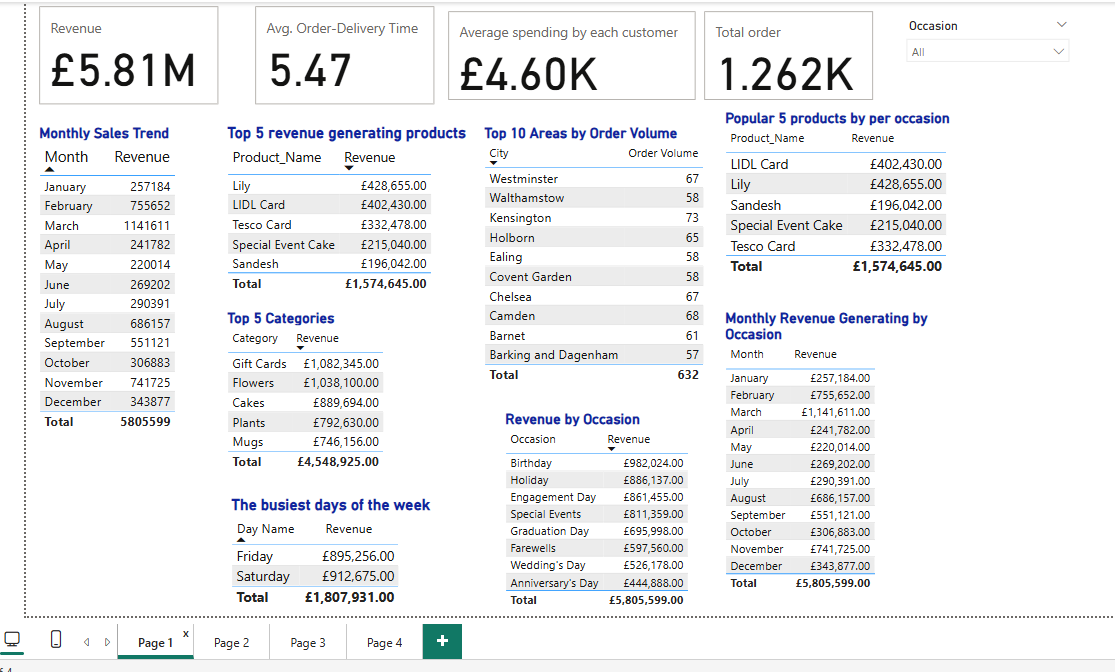

What the dashboard file says about the page in this screenshot:
{"tool":"powerbi","page":{"name":"Page 1","canvas":[1280,720],"ordinal":0},"visuals":[{"type":"cardVisual","fields":{"Data":["Table.Revenue"]},"box":[10.6,0,220.5,125.5],"z":0},{"type":"cardVisual","fields":{"Data":["Table.Diff_order_delivery"]},"box":[263.8,0,220.5,125.5],"z":1000},{"type":"tableEx","title":"Monthly Sales Trend","fields":{"Values":["LocalDateTable_1c952283-f69a-4542-b5b8-ab6ec2ddd77a.Month","Sum(orders.Revenue)"]},"box":[10,142.5,220,391.2],"z":2000},{"type":"tableEx","title":"Top 5 revenue generating products","fields":{"Values":["products.Product_Name","Table.Revenue"]},"box":[231,143.1,300.2,216.9],"z":3000},{"type":"cardVisual","fields":{"Data":["Table.Avg_Revenue"]},"box":[490.2,5.9,300.2,114.9],"z":4000},{"type":"cardVisual","fields":{"Data":["Table.Order_ID"]},"box":[790.4,5.9,208.7,114.9],"z":5000},{"type":"tableEx","title":" Top 5 Categories","fields":{"Values":["products.Category","Table.Revenue"]},"box":[231.3,359.8,258.3,197.9],"z":6000},{"type":"tableEx","title":"Top 10 Areas by Order Volume","fields":{"Values":["customers.City","Table.Order_Id_2"]},"box":[532.5,142.5,268.8,316.2],"z":7000},{"type":"tableEx","title":"Revenue by Occasion","fields":{"Values":["products.Occasion","Table.Revenue"]},"box":[557,478.4,233.4,241.6],"z":8000},{"type":"tableEx","title":"Popular 5 products by per occasion","fields":{"Values":["products.Product_Name","Table.Revenue"]},"box":[814.8,125.9,275,212],"z":9000},{"type":"slicer","fields":{"Values":["products.Occasion"]},"box":[1022.5,15,211.2,86.2],"z":10000},{"type":"tableEx","title":"The busiest days of the week","fields":{"Values":["orders.Delivery Day Name","Table.Revenue"]},"box":[236.2,578.8,275,141.2],"z":11000},{"type":"tableEx","title":"Monthly Revenue Generating by Occasion","fields":{"Values":["LocalDateTable_1c952283-f69a-4542-b5b8-ab6ec2ddd77a.Month","Table.Revenue"]},"box":[815,360,275,338.8],"z":12000}]}

Visuals, with their boxes on the page's 1280x720 design canvas (x1, y1, x2, y2). These are canvas units, not pixel positions in the 1115x672 screenshot, which may show the page scaled, cropped or inside an application window:
cardVisual - Table.Revenue: bbox=[11, 0, 231, 126]
cardVisual - Table.Diff_order_delivery: bbox=[264, 0, 484, 126]
"Monthly Sales Trend" tableEx: bbox=[10, 142, 230, 534]
"Top 5 revenue generating products" tableEx: bbox=[231, 143, 531, 360]
cardVisual - Table.Avg_Revenue: bbox=[490, 6, 790, 121]
cardVisual - Table.Order_ID: bbox=[790, 6, 999, 121]
" Top 5 Categories" tableEx: bbox=[231, 360, 490, 558]
"Top 10 Areas by Order Volume" tableEx: bbox=[532, 142, 801, 459]
"Revenue by Occasion" tableEx: bbox=[557, 478, 790, 720]
"Popular 5 products by per occasion" tableEx: bbox=[815, 126, 1090, 338]
slicer - products.Occasion: bbox=[1022, 15, 1234, 101]
"The busiest days of the week" tableEx: bbox=[236, 579, 511, 720]
"Monthly Revenue Generating by Occasion" tableEx: bbox=[815, 360, 1090, 699]
